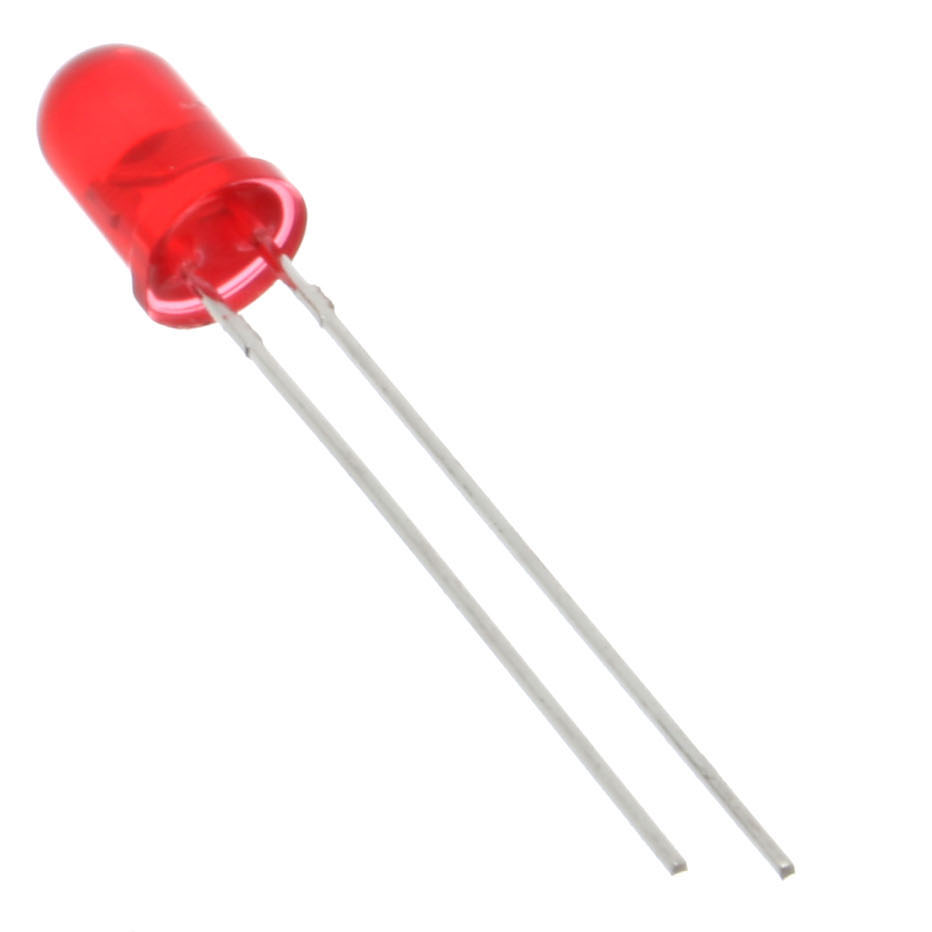LED: (33, 41, 310, 332)
